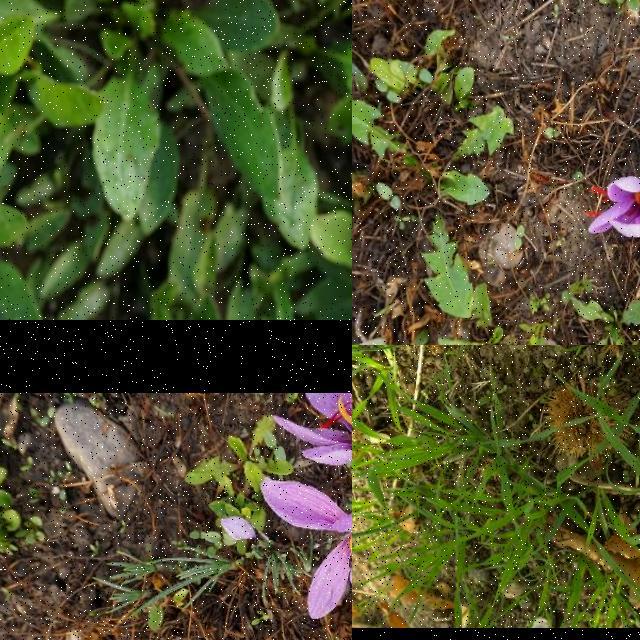flower: (260, 467, 352, 618), (272, 393, 352, 465), (583, 161, 640, 236)
